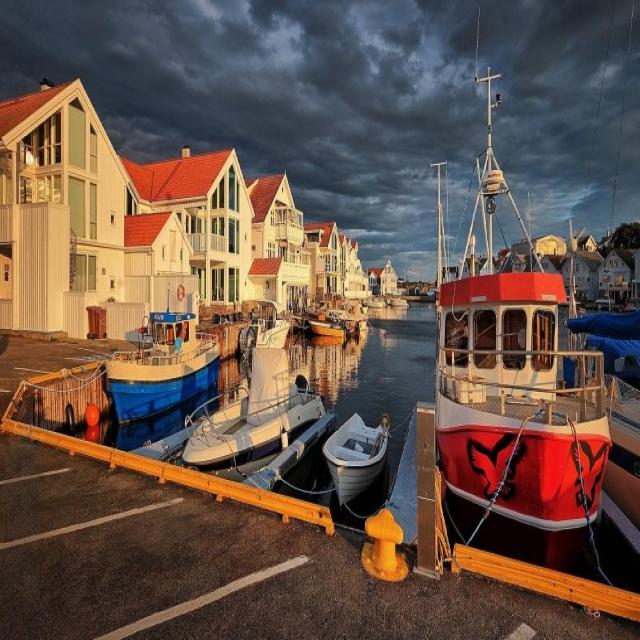houseboat: (442, 284, 622, 534), (110, 313, 224, 427)
